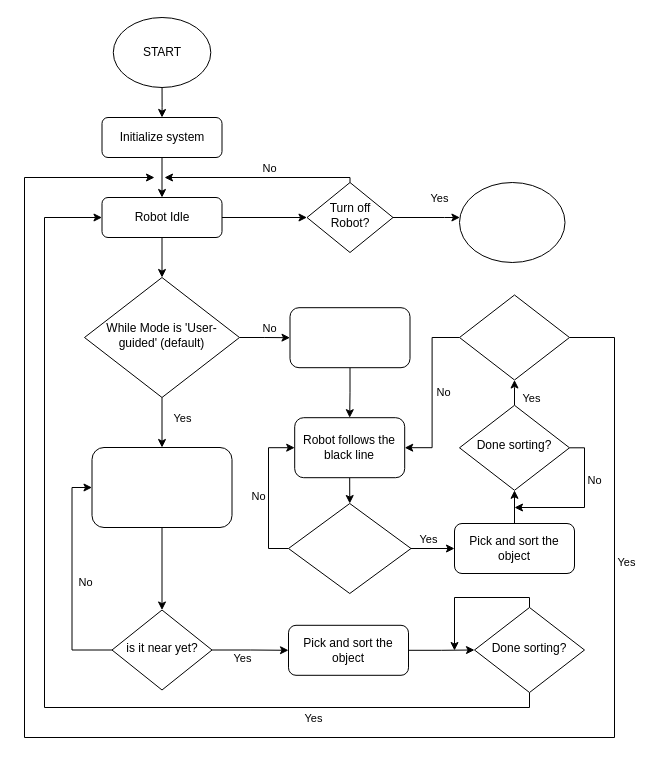
Some shapes in this 666 by 763 pixel diagram are drawn without their labels. Each missing label, with the centre of its shape:
END: the point at 511,222
End of line?: the point at 514,337
is there object in front?: the point at 349,548
Line Tracking Mode: the point at 349,337
The robot travels as the user guides it to the object.: the point at 161,487
